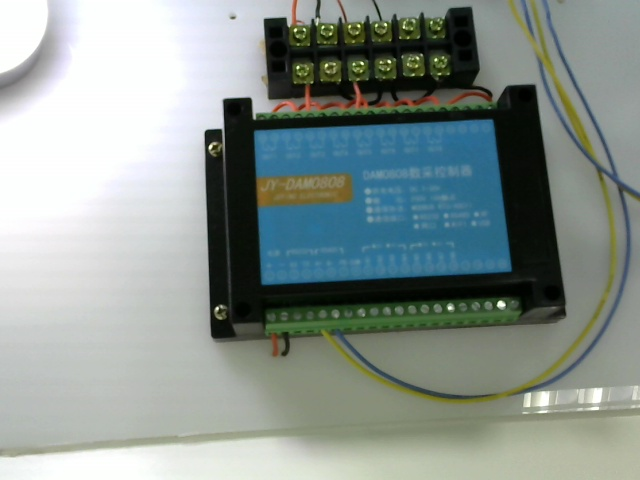relay: (202, 89, 572, 348)
